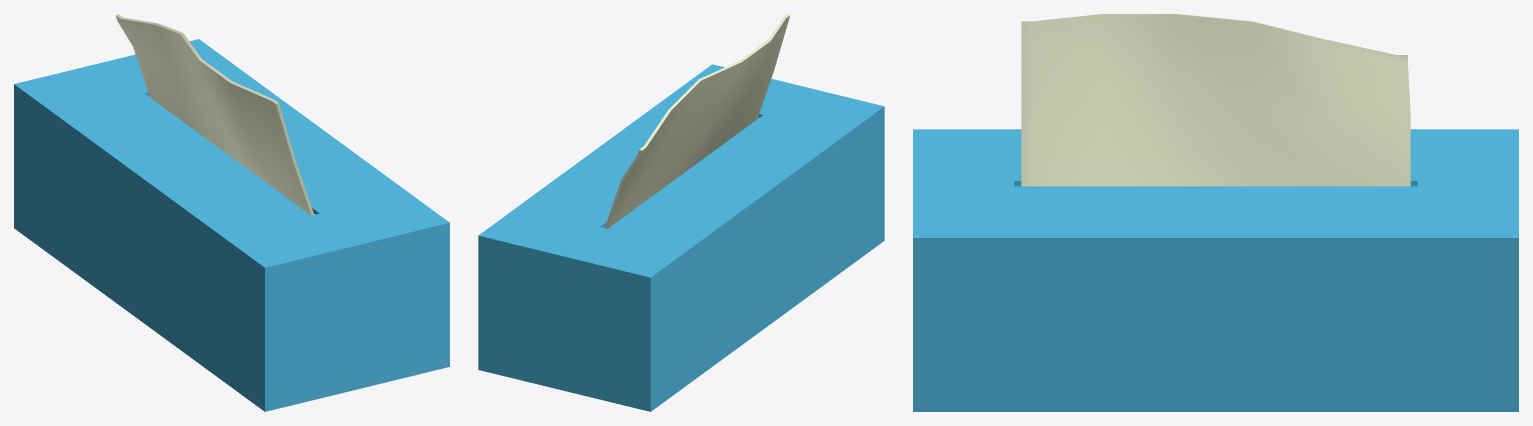
File: Tissue_box.fbx
3 views of the same model, side by side, from view 1: azimuth 30°, elevation 25°; view 2: azimuth 150°, elevation 25°; view 3: azimuth 270°, elevation 25° (orthographic). The views are drawn at different scales.
Parts seen in each view (by area): view 1: Tissue_box; view 2: Tissue_box; view 3: Tissue_box.
Boxes of the visible parts, x1,y1,x2,y2 form: Tissue_box: [14, 14, 449, 411]; Tissue_box: [478, 14, 884, 411]; Tissue_box: [913, 14, 1518, 411].
Size of the model in its own units: 12.42 by 16.79 by 29.19.
